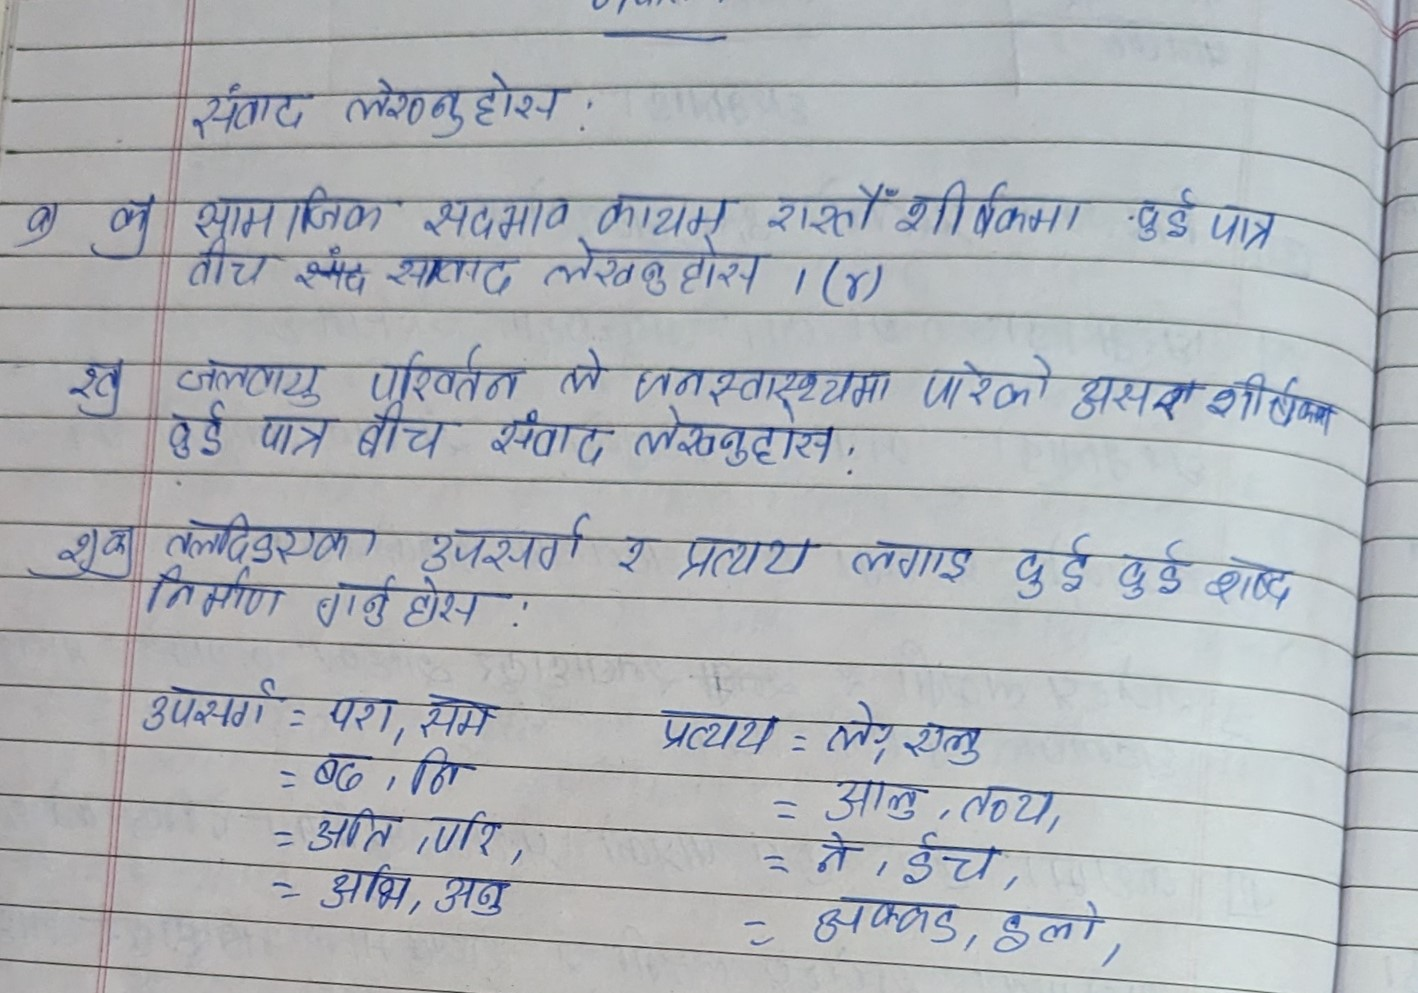text: (625, 406, 854, 482), (336, 72, 579, 140), (625, 356, 898, 406), (538, 241, 765, 300), (1202, 356, 1352, 445), (155, 507, 386, 564), (896, 173, 1089, 240), (187, 183, 401, 241), (417, 506, 590, 576), (315, 574, 508, 637), (166, 346, 334, 408), (140, 669, 287, 739), (354, 347, 525, 404), (918, 346, 1058, 415), (182, 74, 319, 142), (1070, 358, 1190, 431), (415, 187, 571, 243), (811, 895, 963, 952), (650, 695, 781, 759), (483, 409, 616, 473), (672, 526, 820, 581), (142, 567, 286, 623), (995, 893, 1108, 963), (383, 246, 523, 300), (765, 180, 893, 238), (1202, 542, 1304, 615), (842, 534, 974, 589), (354, 405, 467, 468), (1010, 525, 1093, 606), (1207, 187, 1293, 266), (586, 190, 735, 235), (1106, 532, 1191, 605), (902, 834, 1010, 889), (1120, 181, 1196, 252), (321, 863, 412, 922), (255, 408, 344, 468), (430, 807, 523, 863), (430, 866, 518, 923), (909, 709, 991, 768), (826, 775, 922, 825), (304, 807, 399, 856), (161, 402, 237, 462), (961, 779, 1052, 829), (414, 690, 502, 742), (186, 241, 276, 290), (324, 687, 397, 743), (67, 344, 125, 412), (306, 751, 377, 799), (823, 697, 875, 760), (10, 188, 60, 252), (402, 749, 462, 799), (97, 190, 150, 242), (555, 348, 611, 395), (808, 830, 861, 877), (612, 529, 661, 577), (48, 516, 92, 567), (837, 255, 876, 306), (98, 514, 133, 569)
